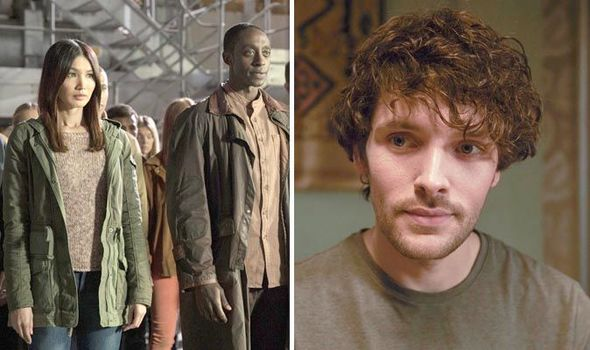human: (293, 15, 590, 344), (11, 26, 151, 347), (169, 22, 286, 347)
